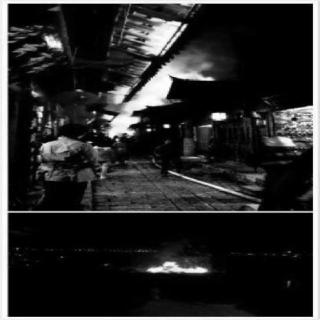Fire: (129, 245, 213, 279), (124, 14, 188, 54), (41, 29, 65, 52)
